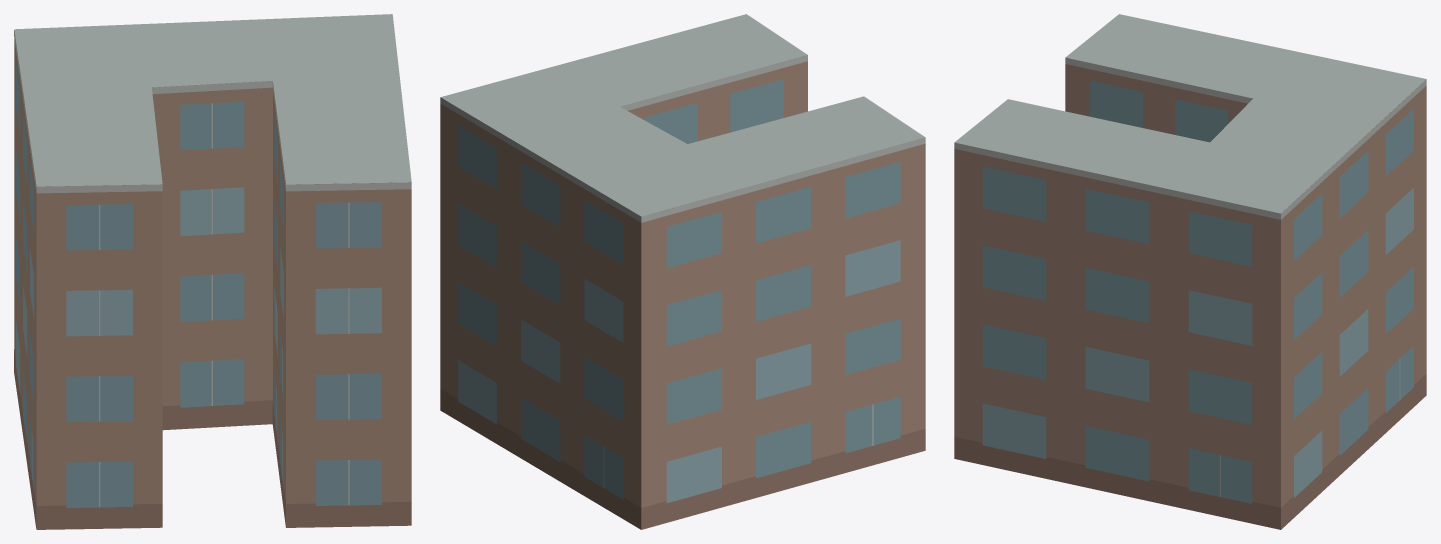
File: survey-upis-32681970.glb
3 renders of one model, left to right at view 1: azimuth 30°, elevation 25°; view 2: azimuth 150°, elevation 25°; view 3: azimuth 270°, elevation 25°, orthographic. The views are drawn at different scales.
Visible parts, largest first — view 1: survey-upis-32681970.tmp; view 2: survey-upis-32681970.tmp; view 3: survey-upis-32681970.tmp.
Boxes of the visible parts, left/top/right/bottom form: survey-upis-32681970.tmp: left=14, top=14, right=411, bottom=529; survey-upis-32681970.tmp: left=440, top=14, right=925, bottom=529; survey-upis-32681970.tmp: left=954, top=14, right=1426, bottom=529.
Bounding box in the file's own units: 16.7 × 12.33 × 16.7.
